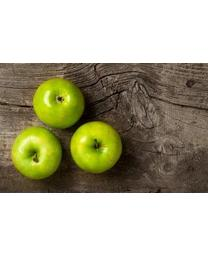apple: (10, 125, 61, 179), (69, 120, 121, 172), (32, 77, 84, 128)
